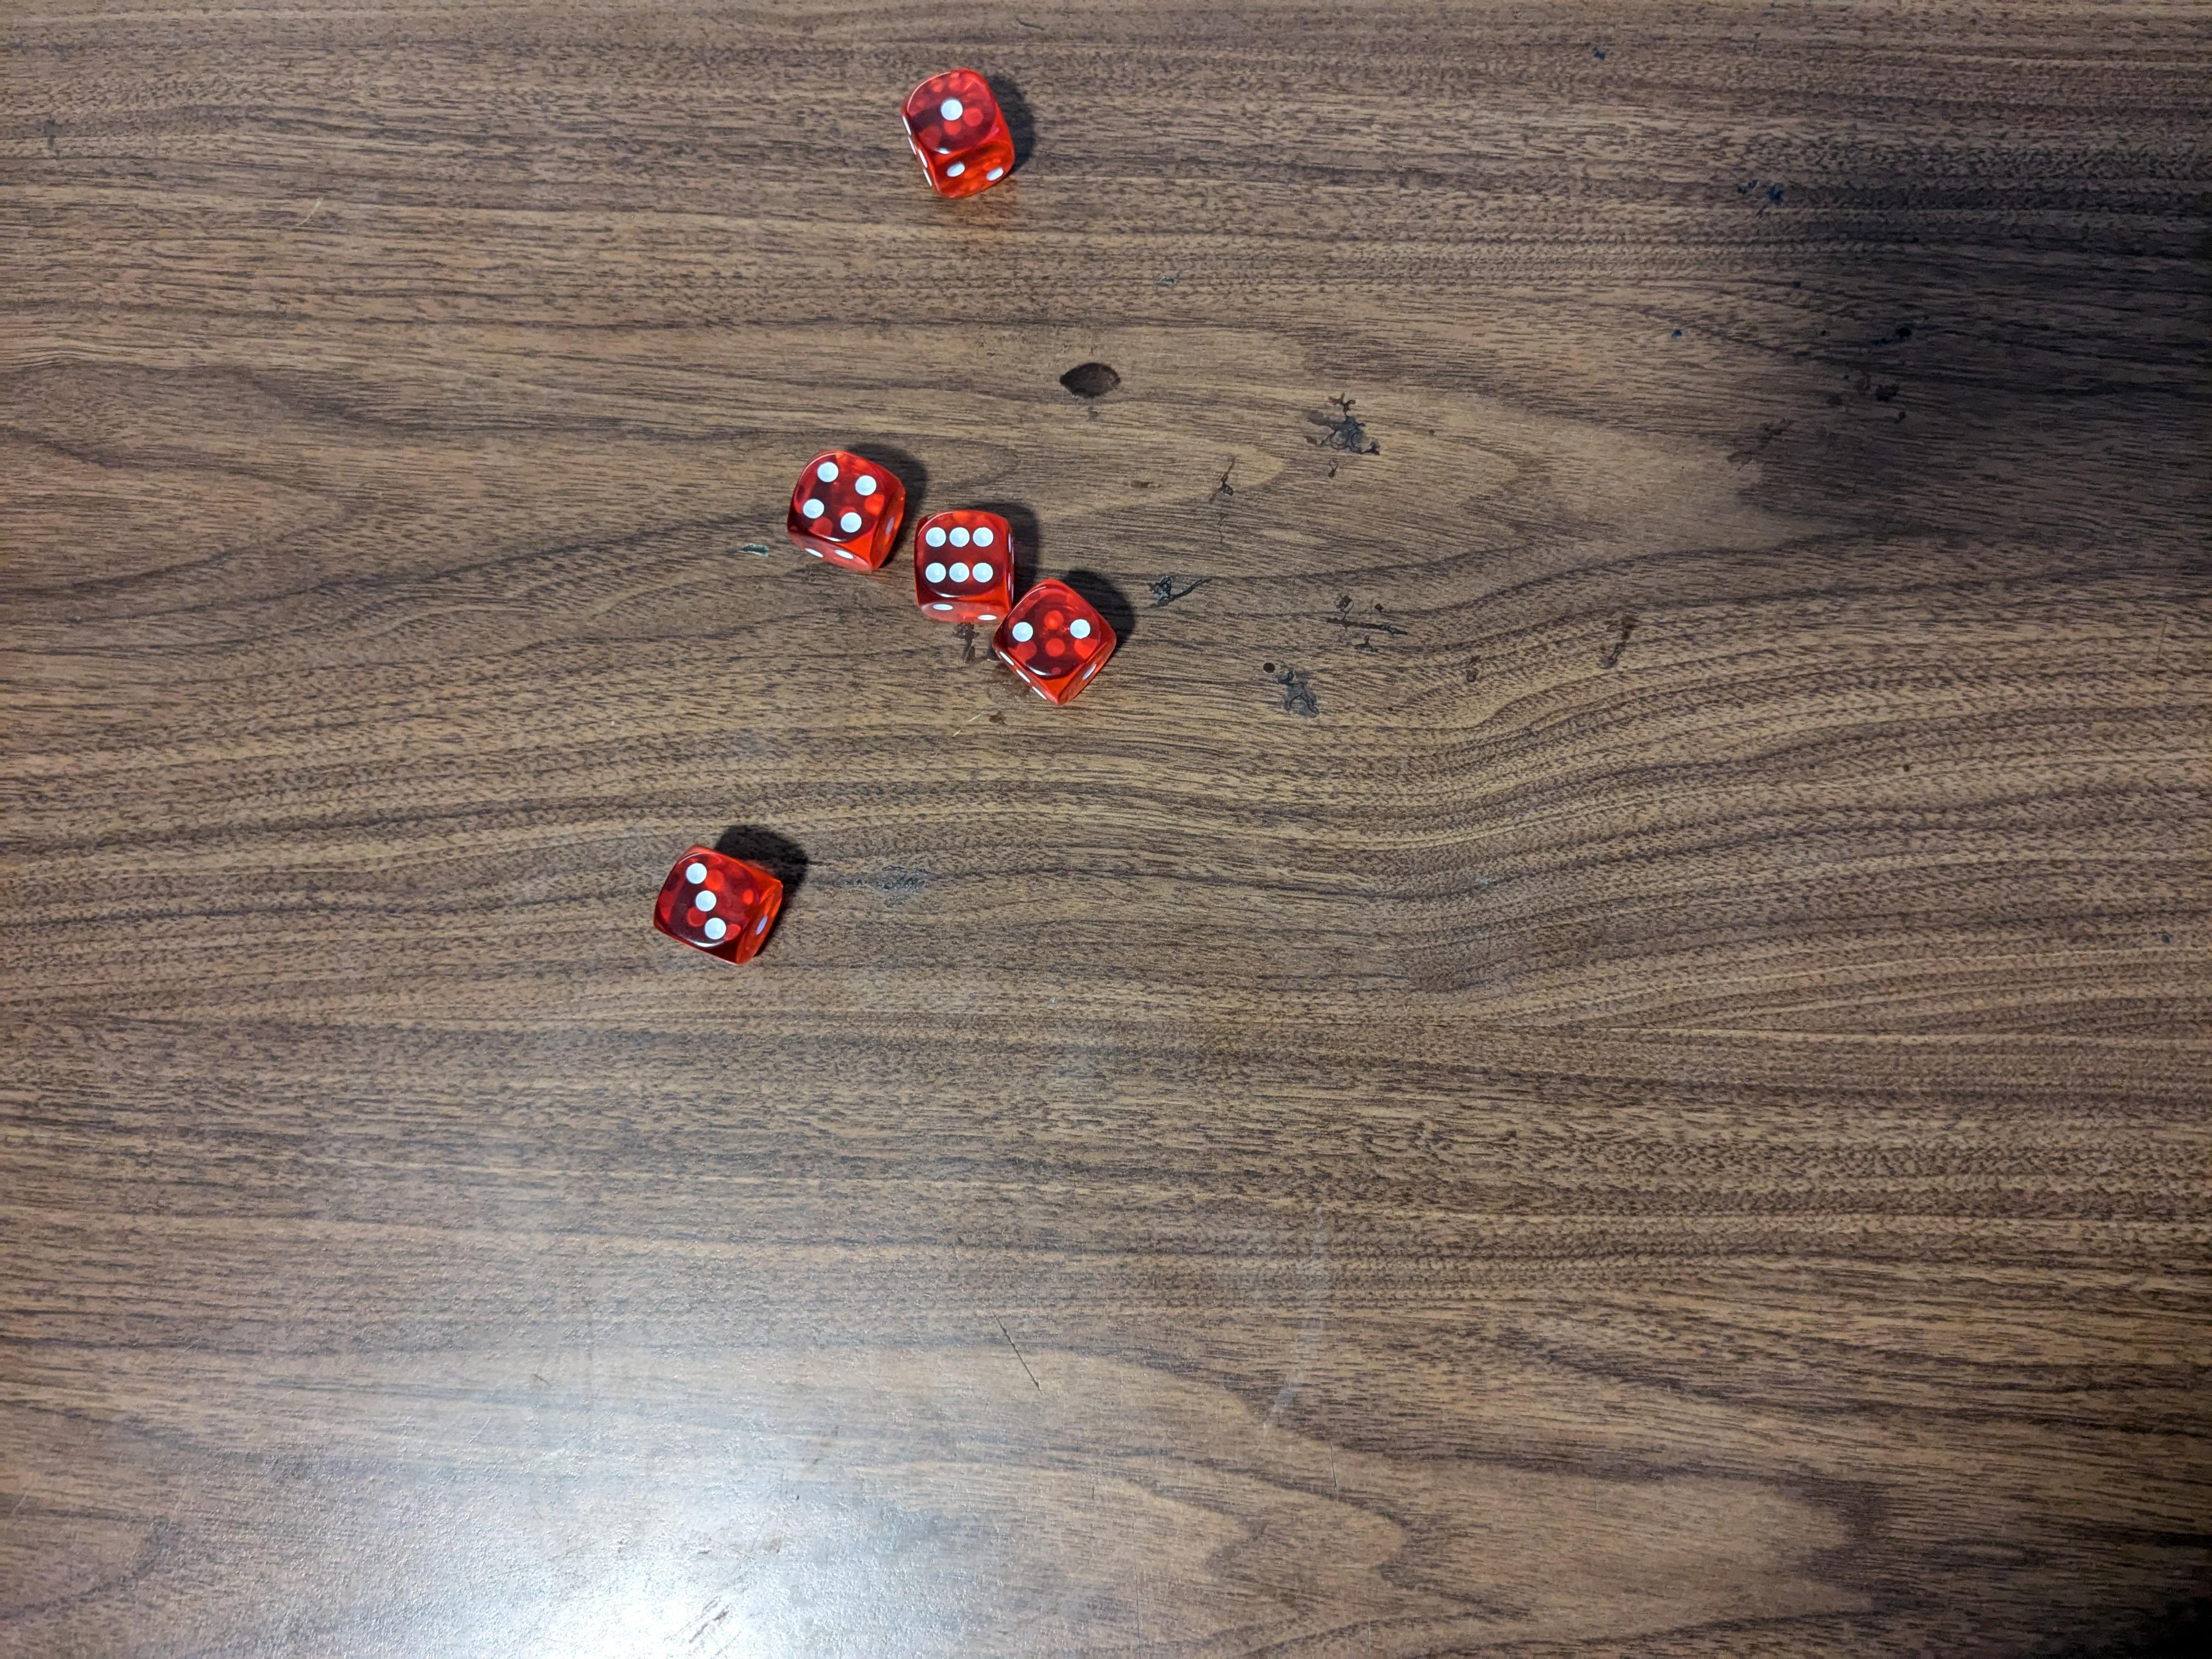four: (786, 448, 906, 573)
one: (899, 63, 1026, 202)
six: (914, 505, 1026, 633)
three: (648, 849, 791, 967)
two: (988, 580, 1120, 711)
